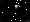person: (13, 7, 22, 16)
